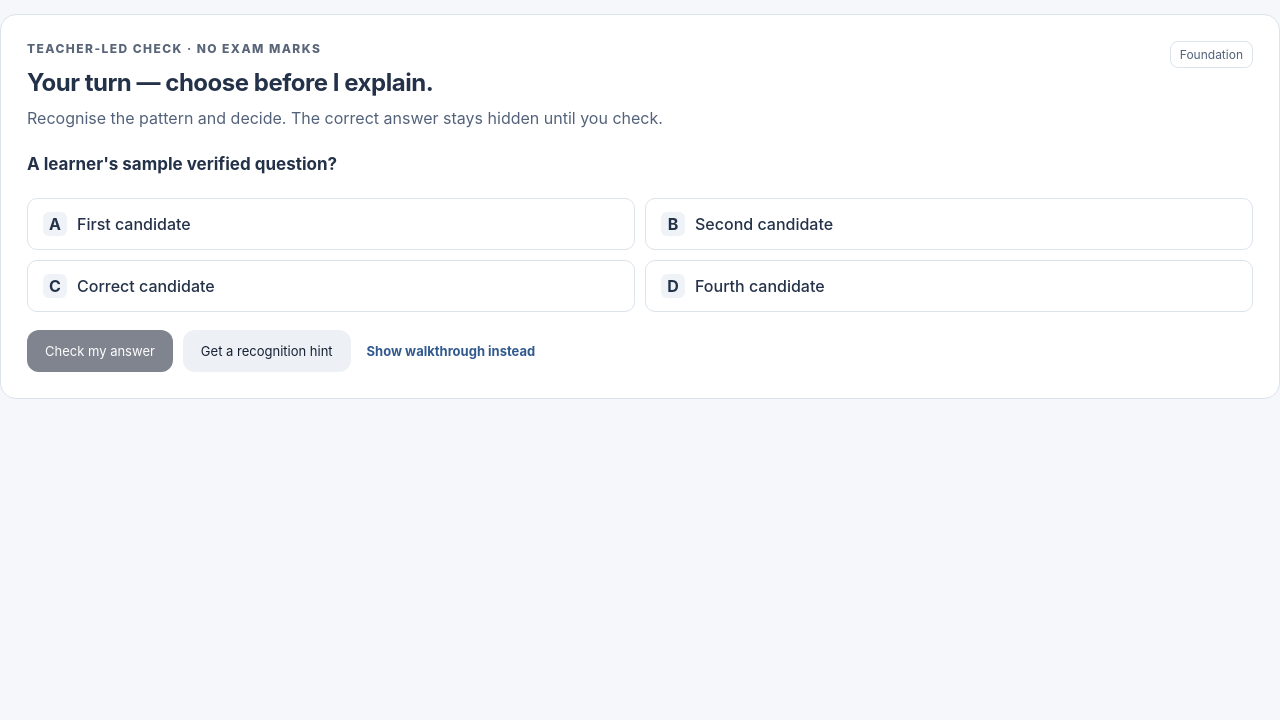
Test: Teacher guided check › does not treat an explicitly revealed walkthrough as a scored incorrect response
The image size is (1280, 720).
Click the button "A First candidate": (134, 224) [27,198,635,250]
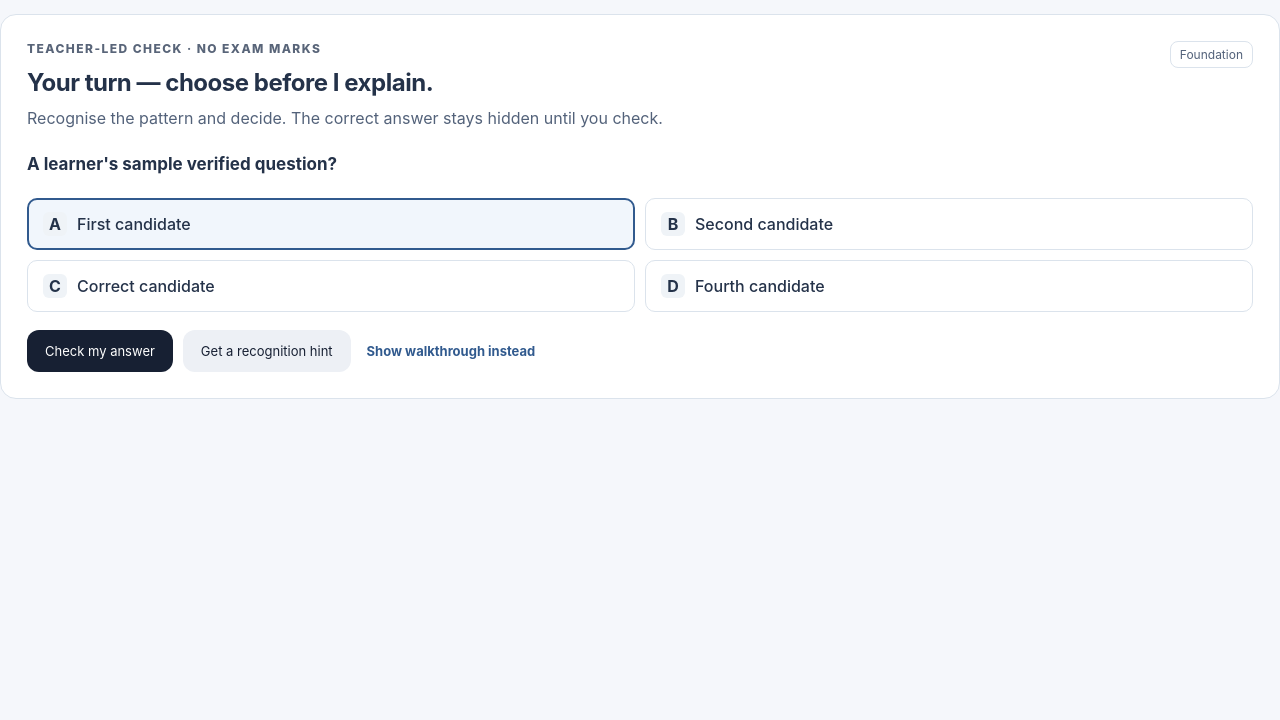
Click the button "Show walkthrough instead": (451, 351) [361,330,541,372]
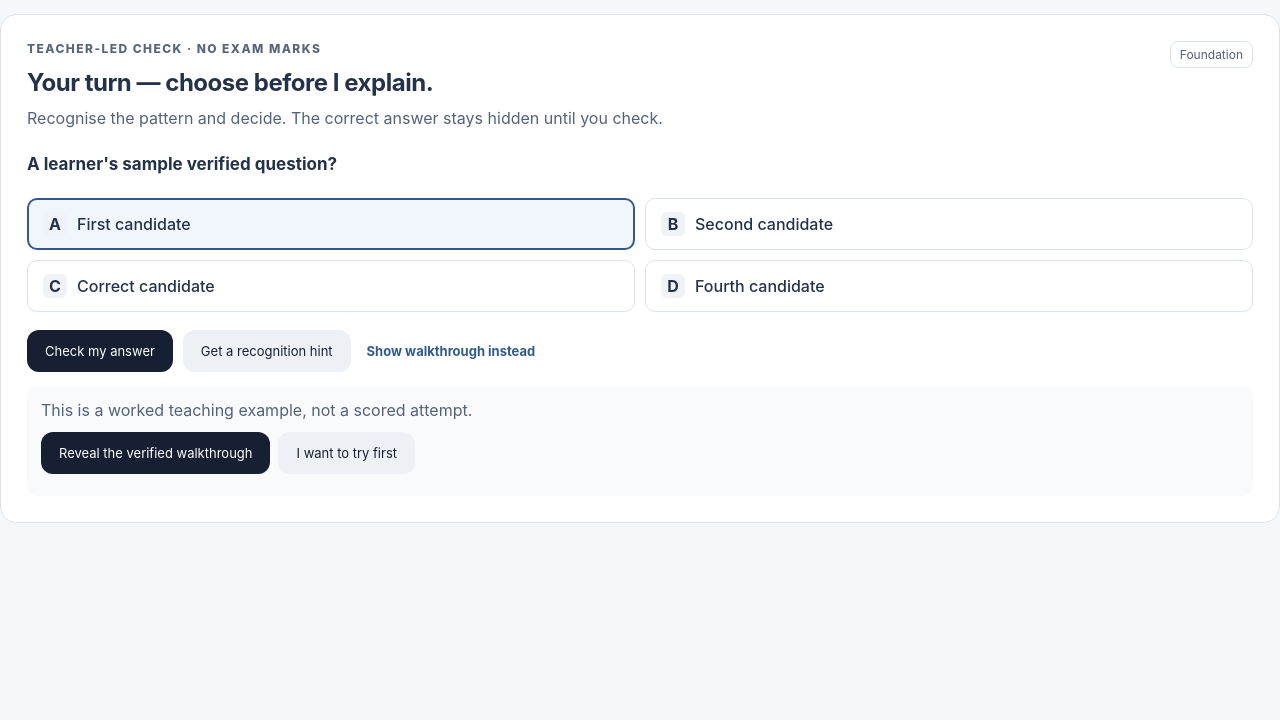
Expected: the text "VERIFIED_WORKED_EXPLANATION for teaching this sample." is not shown
Click the button "Reveal the verified walkthrough": (156, 453) [41,432,270,474]
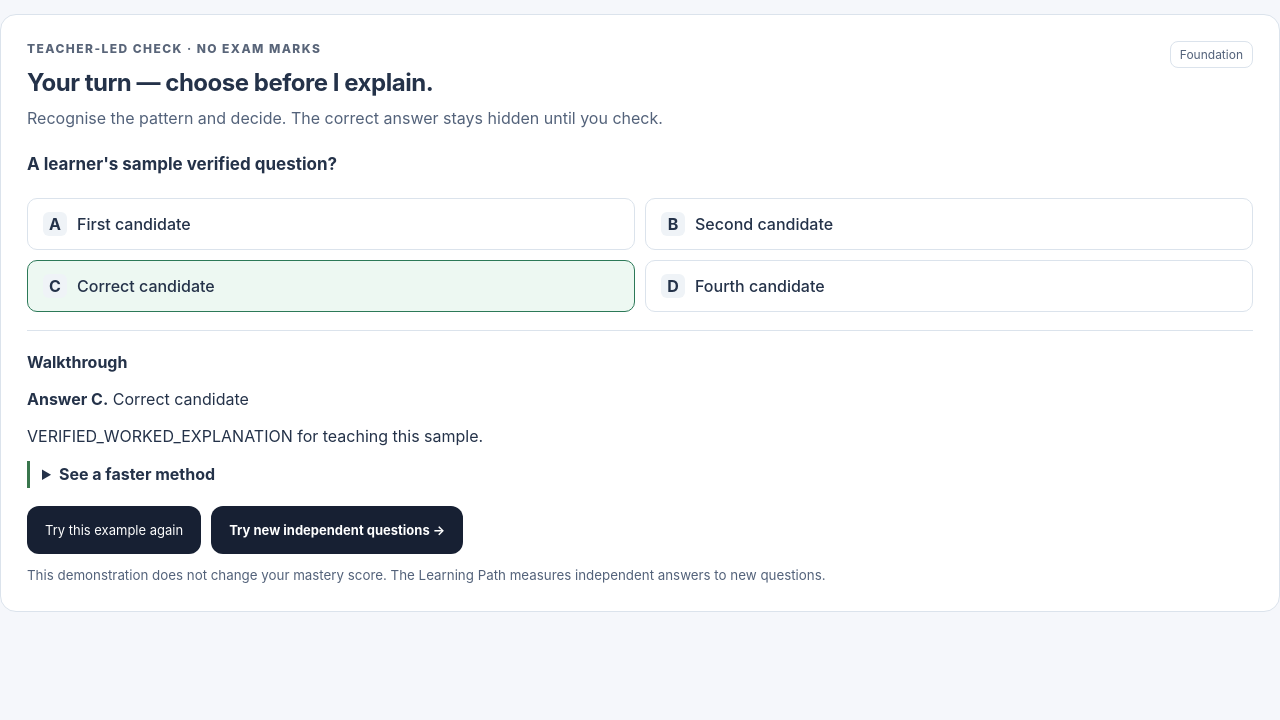
Expected: the text "Walkthrough" is shown, [27,352,127,372]
Result: the text "VERIFIED_WORKED_EXPLANATION for teaching this sample." is shown at [27,426,483,446]
